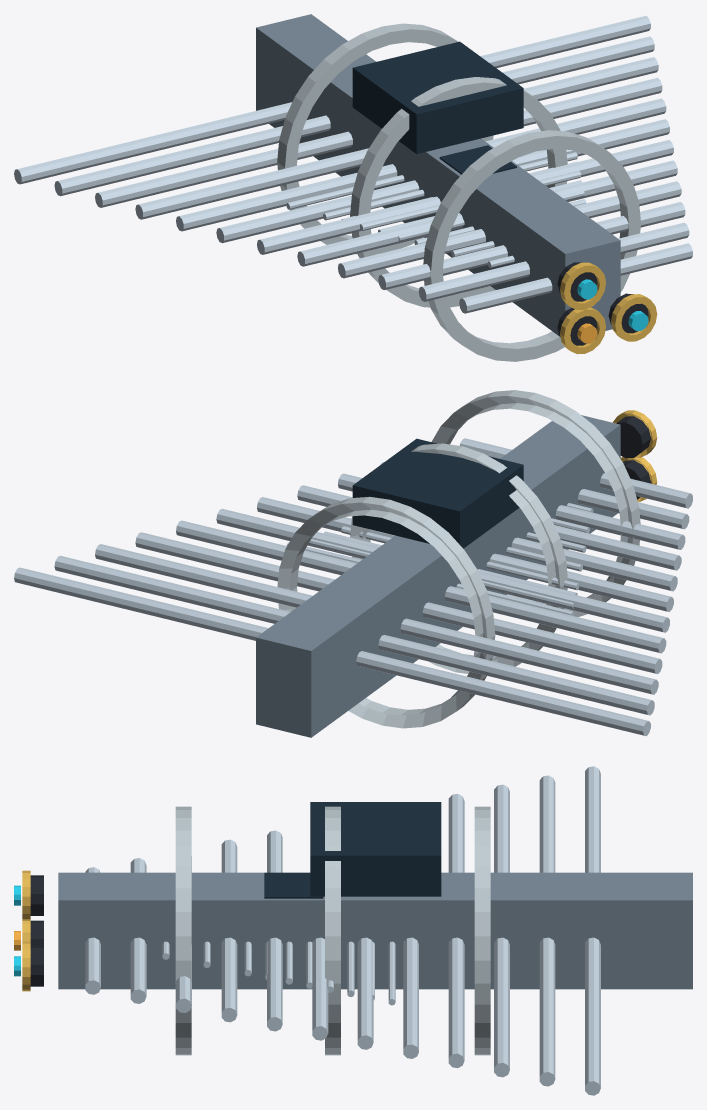
Rendered from 33_L82_BroadbandEmissionMeasurementAntenna.fbx.
The picture shows the model from 3 angles, top to bottom: view 1: azimuth 30°, elevation 25°; view 2: azimuth 150°, elevation 25°; view 3: azimuth 270°, elevation 25°; orthographic projection. The views are drawn at different scales.
Parts seen in each view (by area): view 1: BroadbandEmissionMeasurementAntenna, BroadbandEmissionMeasurementAntenna_Part_0048, BroadbandEmissionMeasurementAntenna_Part_0054, BroadbandEmissionMeasurementAntenna_Part_0078, BroadbandEmissionMeasurementAntenna_Part_0042; view 2: BroadbandEmissionMeasurementAntenna, BroadbandEmissionMeasurementAntenna_Part_0045, BroadbandEmissionMeasurementAntenna_Part_0051, BroadbandEmissionMeasurementAntenna_Part_0042; view 3: BroadbandEmissionMeasurementAntenna, BroadbandEmissionMeasurementAntenna_Part_0078.
Boxes of the visible parts, bbox=[...] form: BroadbandEmissionMeasurementAntenna: bbox=[14, 14, 692, 361]; BroadbandEmissionMeasurementAntenna_Part_0048: bbox=[323, 152, 577, 220]; BroadbandEmissionMeasurementAntenna_Part_0054: bbox=[360, 171, 581, 230]; BroadbandEmissionMeasurementAntenna_Part_0078: bbox=[439, 145, 516, 174]; BroadbandEmissionMeasurementAntenna_Part_0042: bbox=[286, 175, 404, 209]; BroadbandEmissionMeasurementAntenna: bbox=[14, 390, 692, 737]; BroadbandEmissionMeasurementAntenna_Part_0045: bbox=[308, 539, 573, 608]; BroadbandEmissionMeasurementAntenna_Part_0051: bbox=[341, 526, 578, 590]; BroadbandEmissionMeasurementAntenna_Part_0042: bbox=[286, 542, 574, 615]; BroadbandEmissionMeasurementAntenna: bbox=[14, 766, 692, 1095]; BroadbandEmissionMeasurementAntenna_Part_0078: bbox=[264, 872, 323, 898].
Size of the model in its own units: 209 by 70 by 191.
